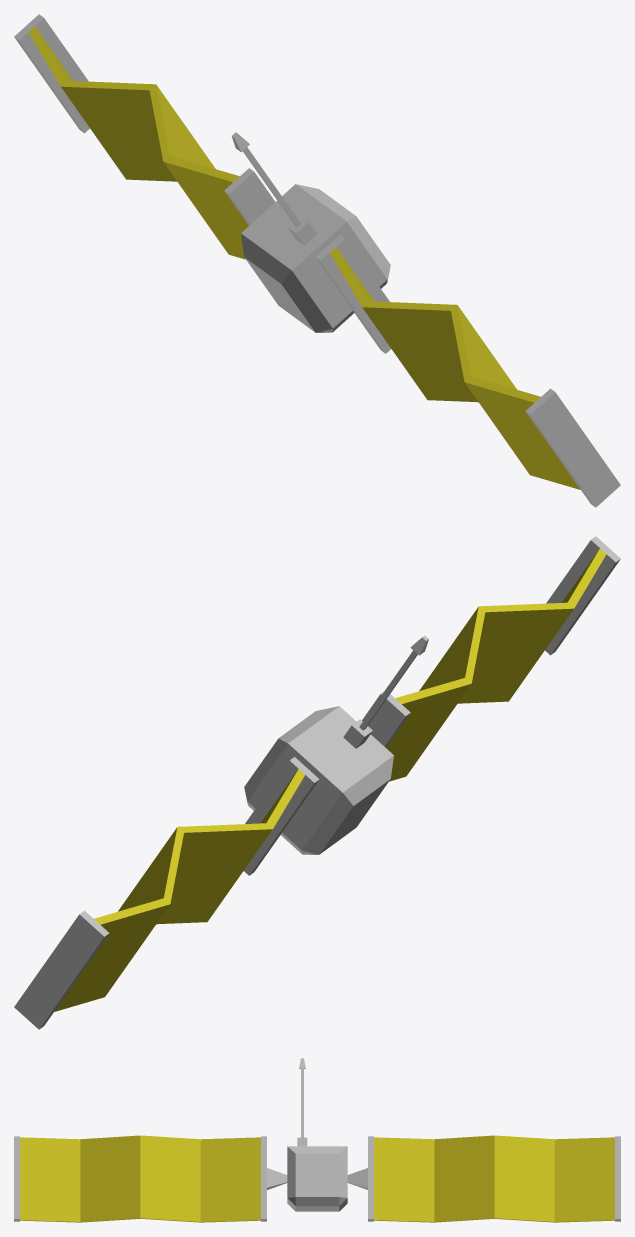
The model's file is planet_satellite.glb.
3 renders of one model, top to bottom at view 1: azimuth 30°, elevation 25°; view 2: azimuth 150°, elevation 25°; view 3: azimuth 270°, elevation 25°, orthographic. The views are drawn at different scales.
Visible parts, largest first — view 1: satelite; view 2: satelite; view 3: satelite.
Boxes of the visible parts, x1,y1,x2,y2 form: satelite: [14, 14, 620, 507]; satelite: [14, 536, 620, 1029]; satelite: [14, 1058, 620, 1222].
Bounding box in the file's own units: 3.43 × 4.93 × 20.16.
